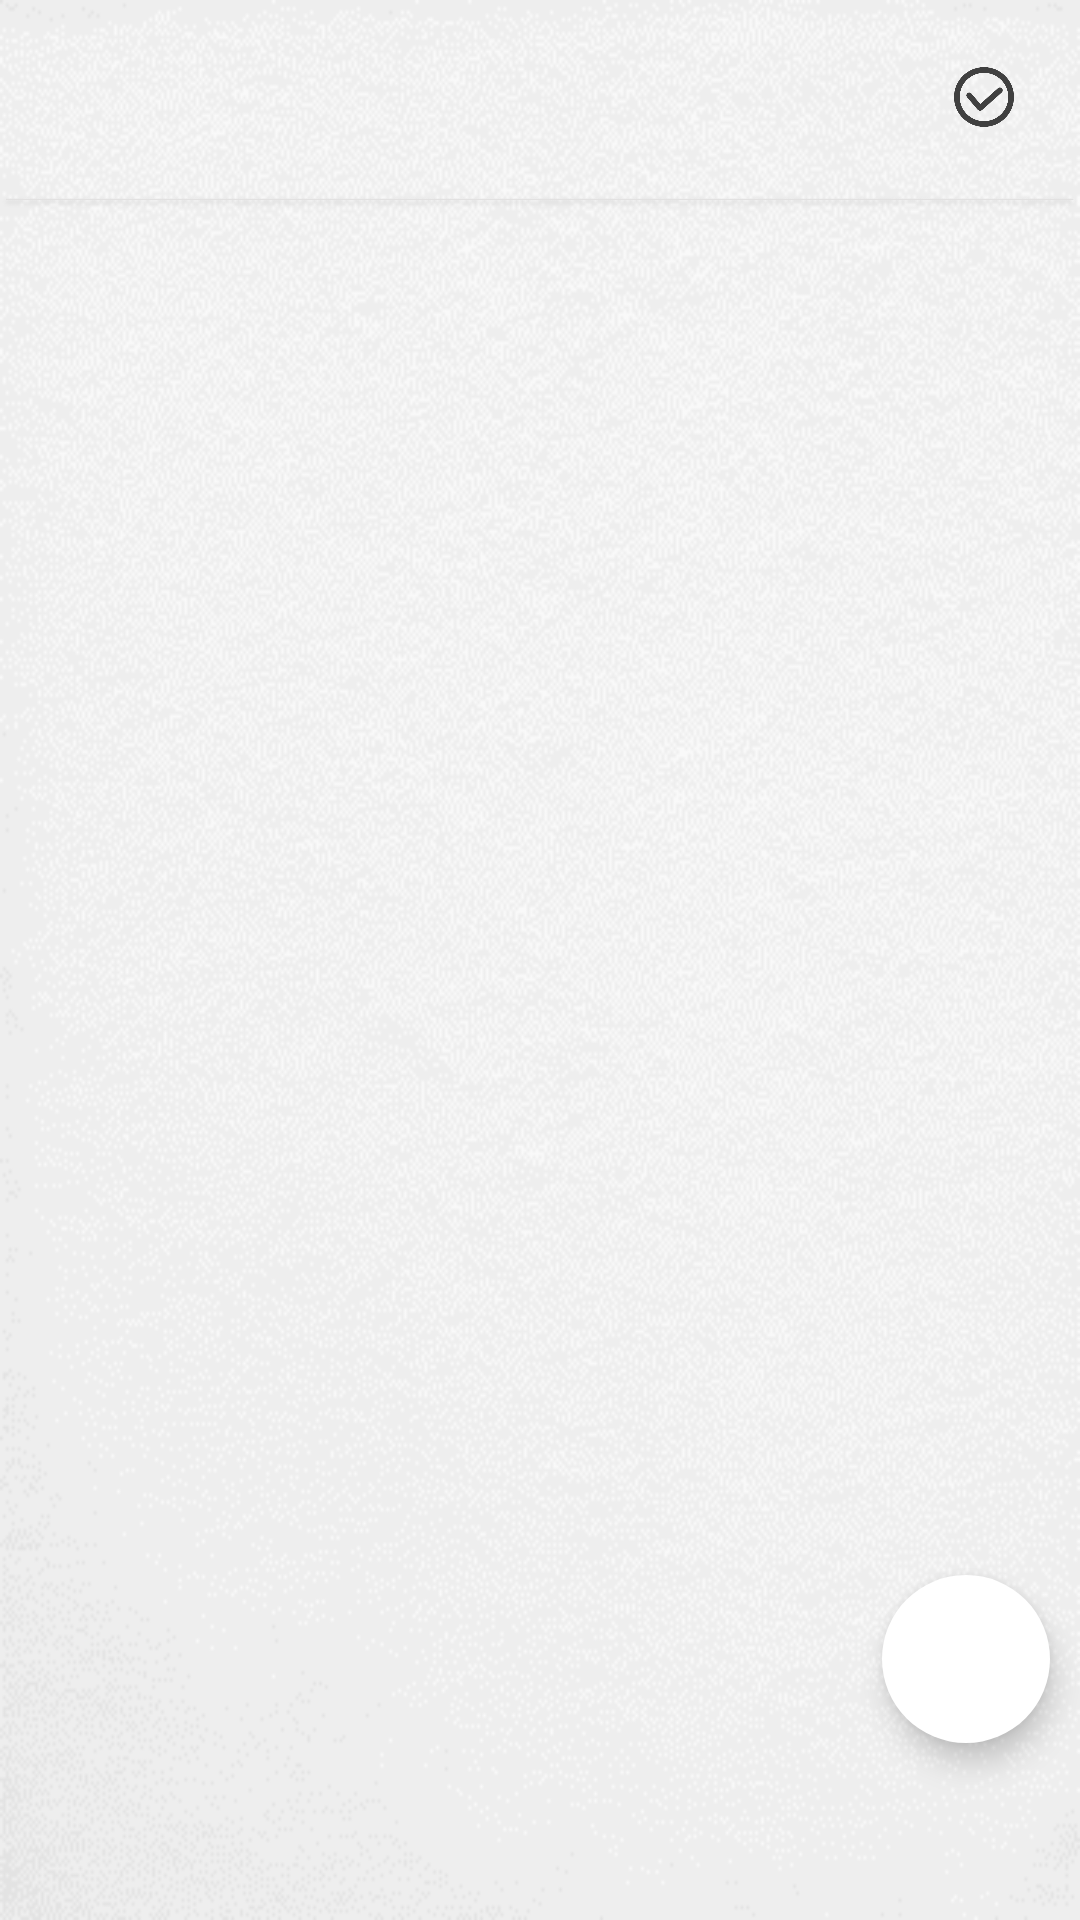

Icons on this 1080px x 1920px Android screen, each with the point to tap as [x,y]:
check: [984,97]
